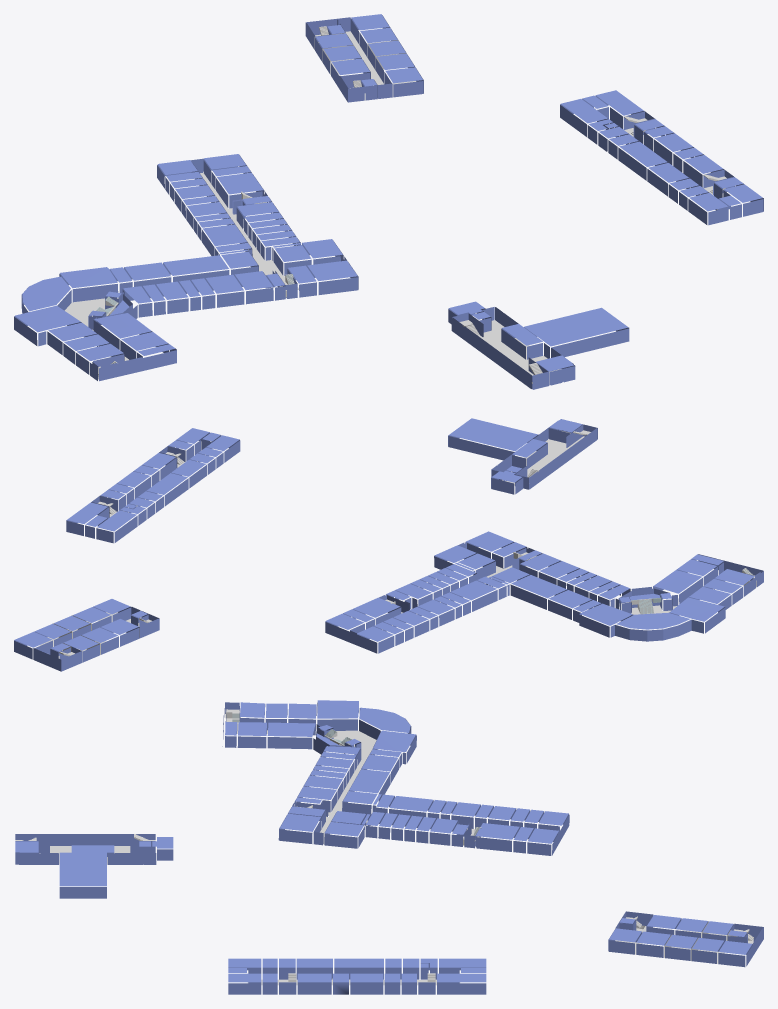
Rendered from dstu_5.glb.
3 renders of one model, top to bottom at view 1: azimuth 30°, elevation 25°; view 2: azimuth 150°, elevation 25°; view 3: azimuth 270°, elevation 25°, orthographic. The views are drawn at different scales.
Parts seen in each view (by area): view 1: 6, 65; view 2: 6, 65; view 3: 6, 65.
Boxes of the visible parts, <box> form: 6: <box>14,90,763,389</box>; 65: <box>305,14,423,102</box>; 6: <box>66,418,763,653</box>; 65: <box>14,599,159,671</box>; 6: <box>15,700,569,994</box>; 65: <box>608,911,763,967</box>.
Size of the model in its own units: 155 by 5.39 by 170.
